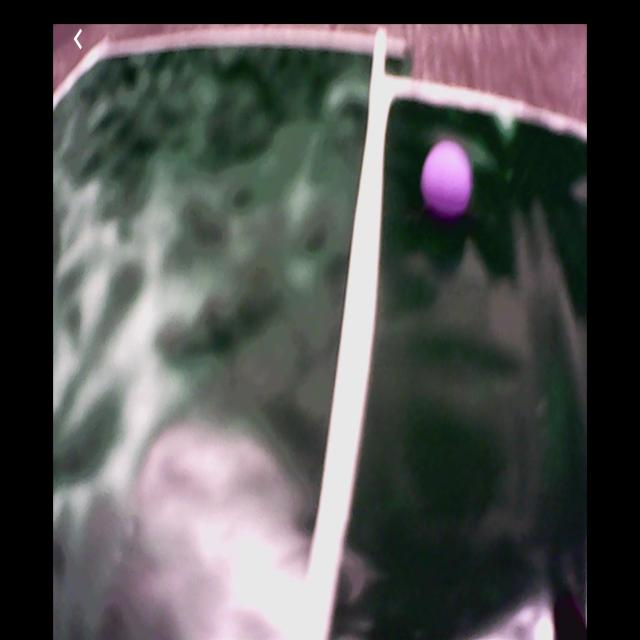ball: (423, 141, 474, 215)
